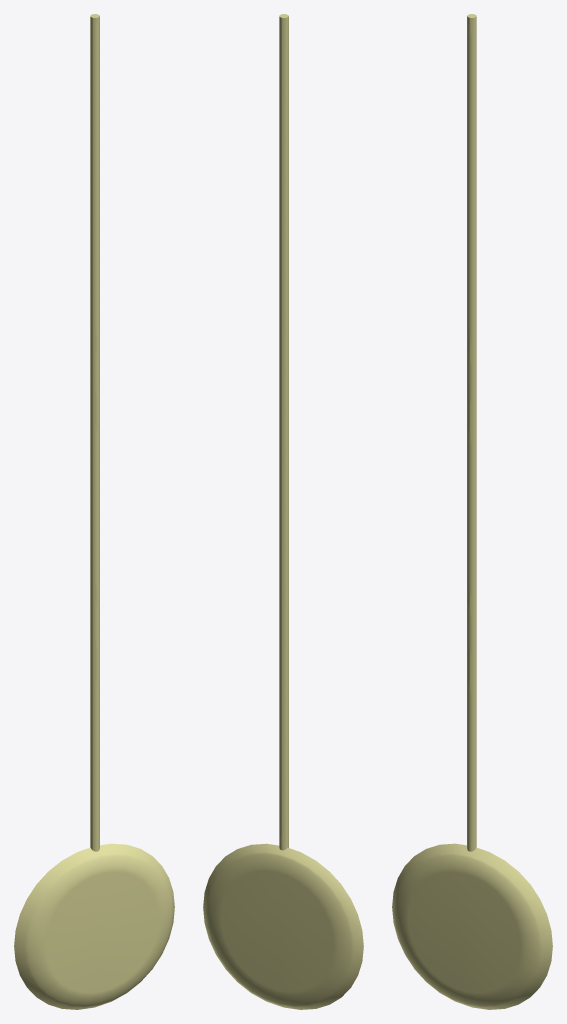
File: GroundClockPendulum.fbx
The picture shows the model from 3 angles, left to right: view 1: azimuth 30°, elevation 25°; view 2: azimuth 150°, elevation 25°; view 3: azimuth 330°, elevation 25°; orthographic projection.
Visible parts, largest first — view 1: NurbsPath.001; view 2: NurbsPath.001; view 3: NurbsPath.001.
Part boxes in pixels (x1,y1,x2,y2): NurbsPath.001: (14,14,174,1009); NurbsPath.001: (203,14,363,1009); NurbsPath.001: (392,14,552,1009).
Bounding box in the file's own units: 27.39 × 161 × 4.12.
